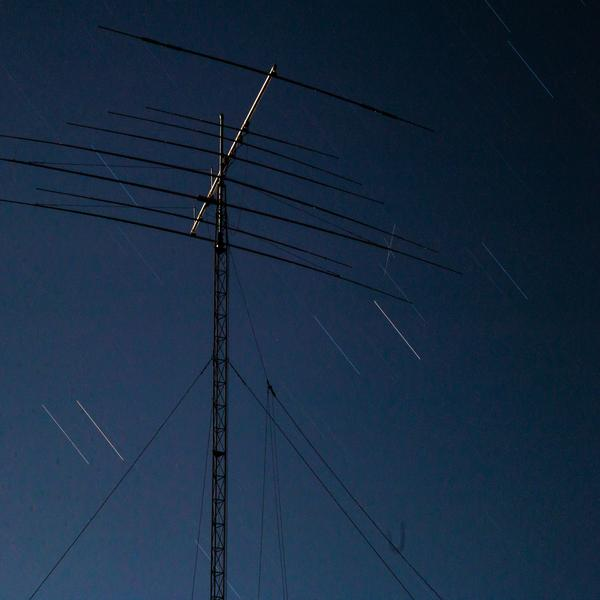utility_pole: (4, 15, 471, 324)
